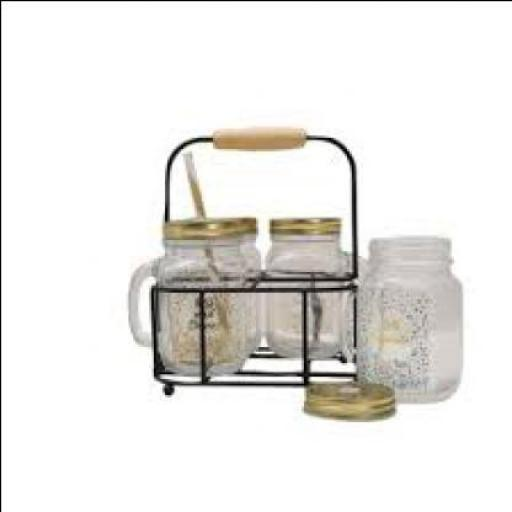glass: (126, 235, 257, 371), (355, 235, 457, 398), (262, 235, 366, 355)
metal: (300, 377, 392, 419), (157, 214, 253, 236), (264, 214, 337, 232)
